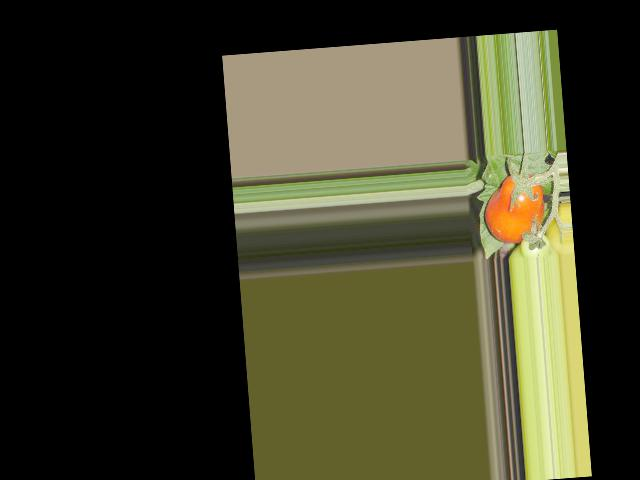tomato: (482, 171, 546, 244)
